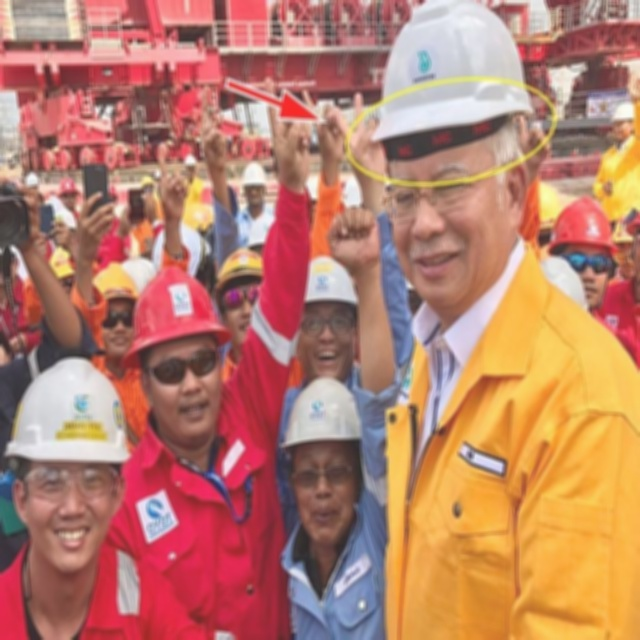Con_Casco: (127, 268, 222, 435), (279, 368, 367, 537)
